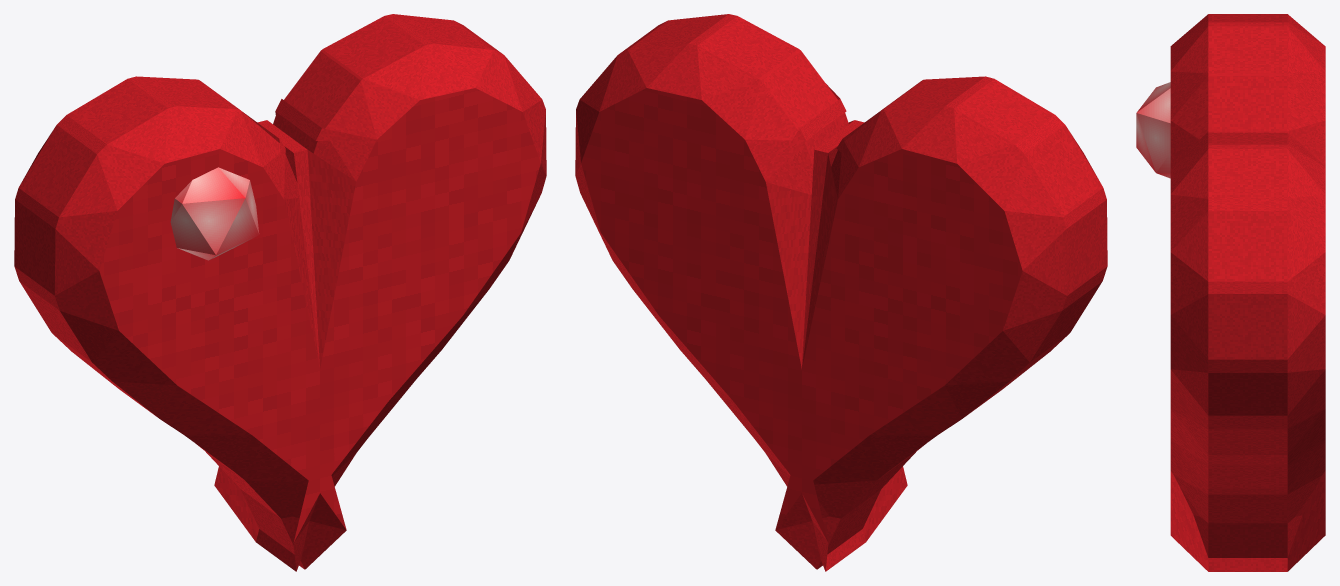
The model's file is PickupHealth.glb.
The picture shows the model from 3 angles, left to right: view 1: azimuth 30°, elevation 25°; view 2: azimuth 150°, elevation 25°; view 3: azimuth 270°, elevation 25°; orthographic projection. The views are drawn at different scales.
Parts seen in each view (by area): view 1: PickupHealth; view 2: PickupHealth; view 3: PickupHealth.
Part boxes in pixels (left/top/right/bottom): PickupHealth: left=14, top=14, right=546, bottom=571; PickupHealth: left=575, top=14, right=1107, bottom=571; PickupHealth: left=1136, top=14, right=1325, bottom=571.
Bounding box in the file's own units: 0.3226 × 0.3103 × 0.1098.
1 material, 1 textured.
